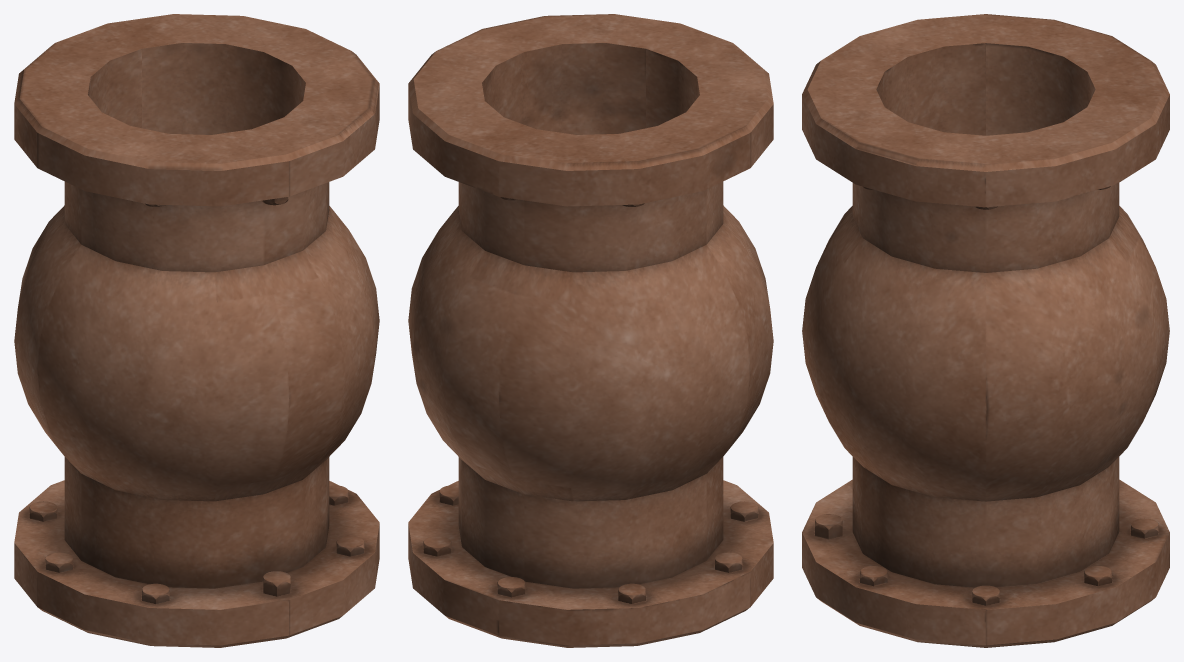
The model's file is _Pipe.fbx.
The picture shows the model from 3 angles, left to right: view 1: azimuth 30°, elevation 25°; view 2: azimuth 150°, elevation 25°; view 3: azimuth 270°, elevation 25°; orthographic projection.
Visible parts, largest first — view 1: Pipe.001; view 2: Pipe.001; view 3: Pipe.001.
Boxes of the visible parts, box(x1,y1,x2,y2) form: Pipe.001: box(14, 14, 379, 647); Pipe.001: box(408, 14, 773, 647); Pipe.001: box(802, 14, 1169, 647).
Bounding box in the file's own units: 6901 × 10000 × 6901.
